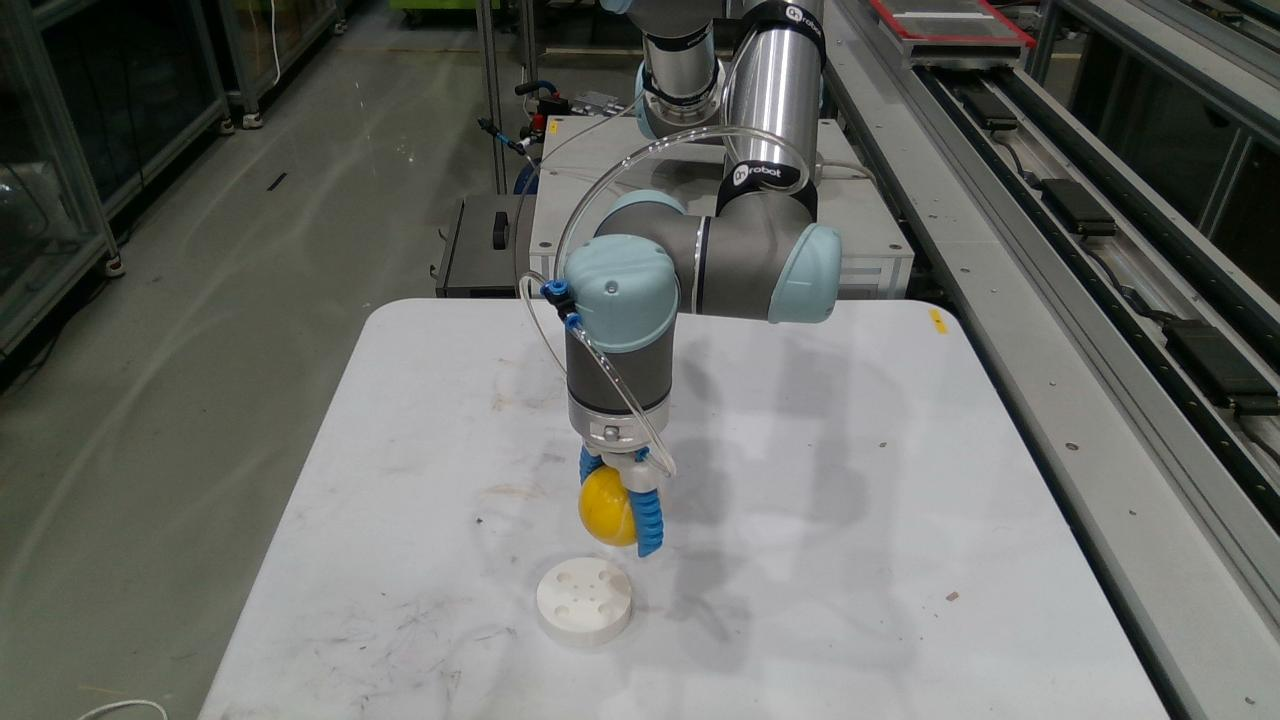UR5: (557, 0, 822, 488)
gripper_left: (579, 444, 604, 484)
gripper_right: (634, 490, 662, 557)
target: (536, 557, 633, 647), (579, 467, 635, 546)
